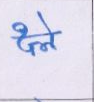o_matra: (44, 18, 57, 49)
